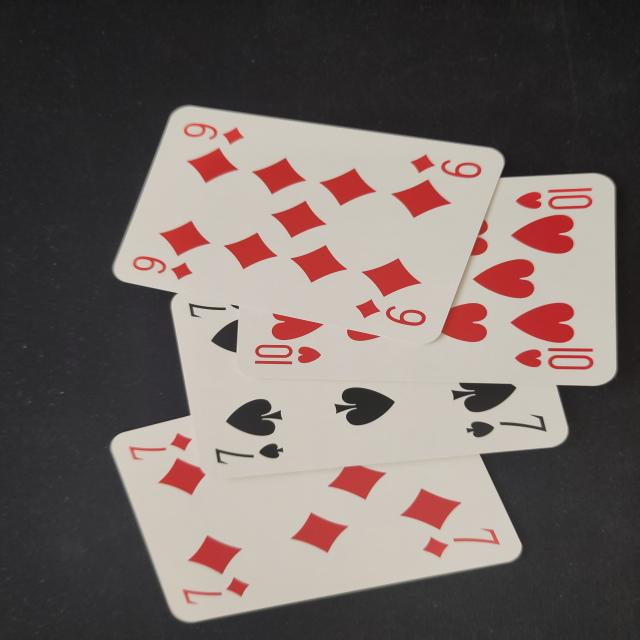10h: (508, 342, 606, 376), (512, 185, 600, 218), (251, 340, 324, 370)
7d: (421, 523, 504, 563), (180, 573, 259, 611), (124, 431, 195, 466)
7s: (460, 410, 550, 442), (211, 439, 292, 470)
9d: (352, 294, 433, 334), (408, 151, 486, 190), (178, 117, 248, 155), (127, 250, 197, 284)
